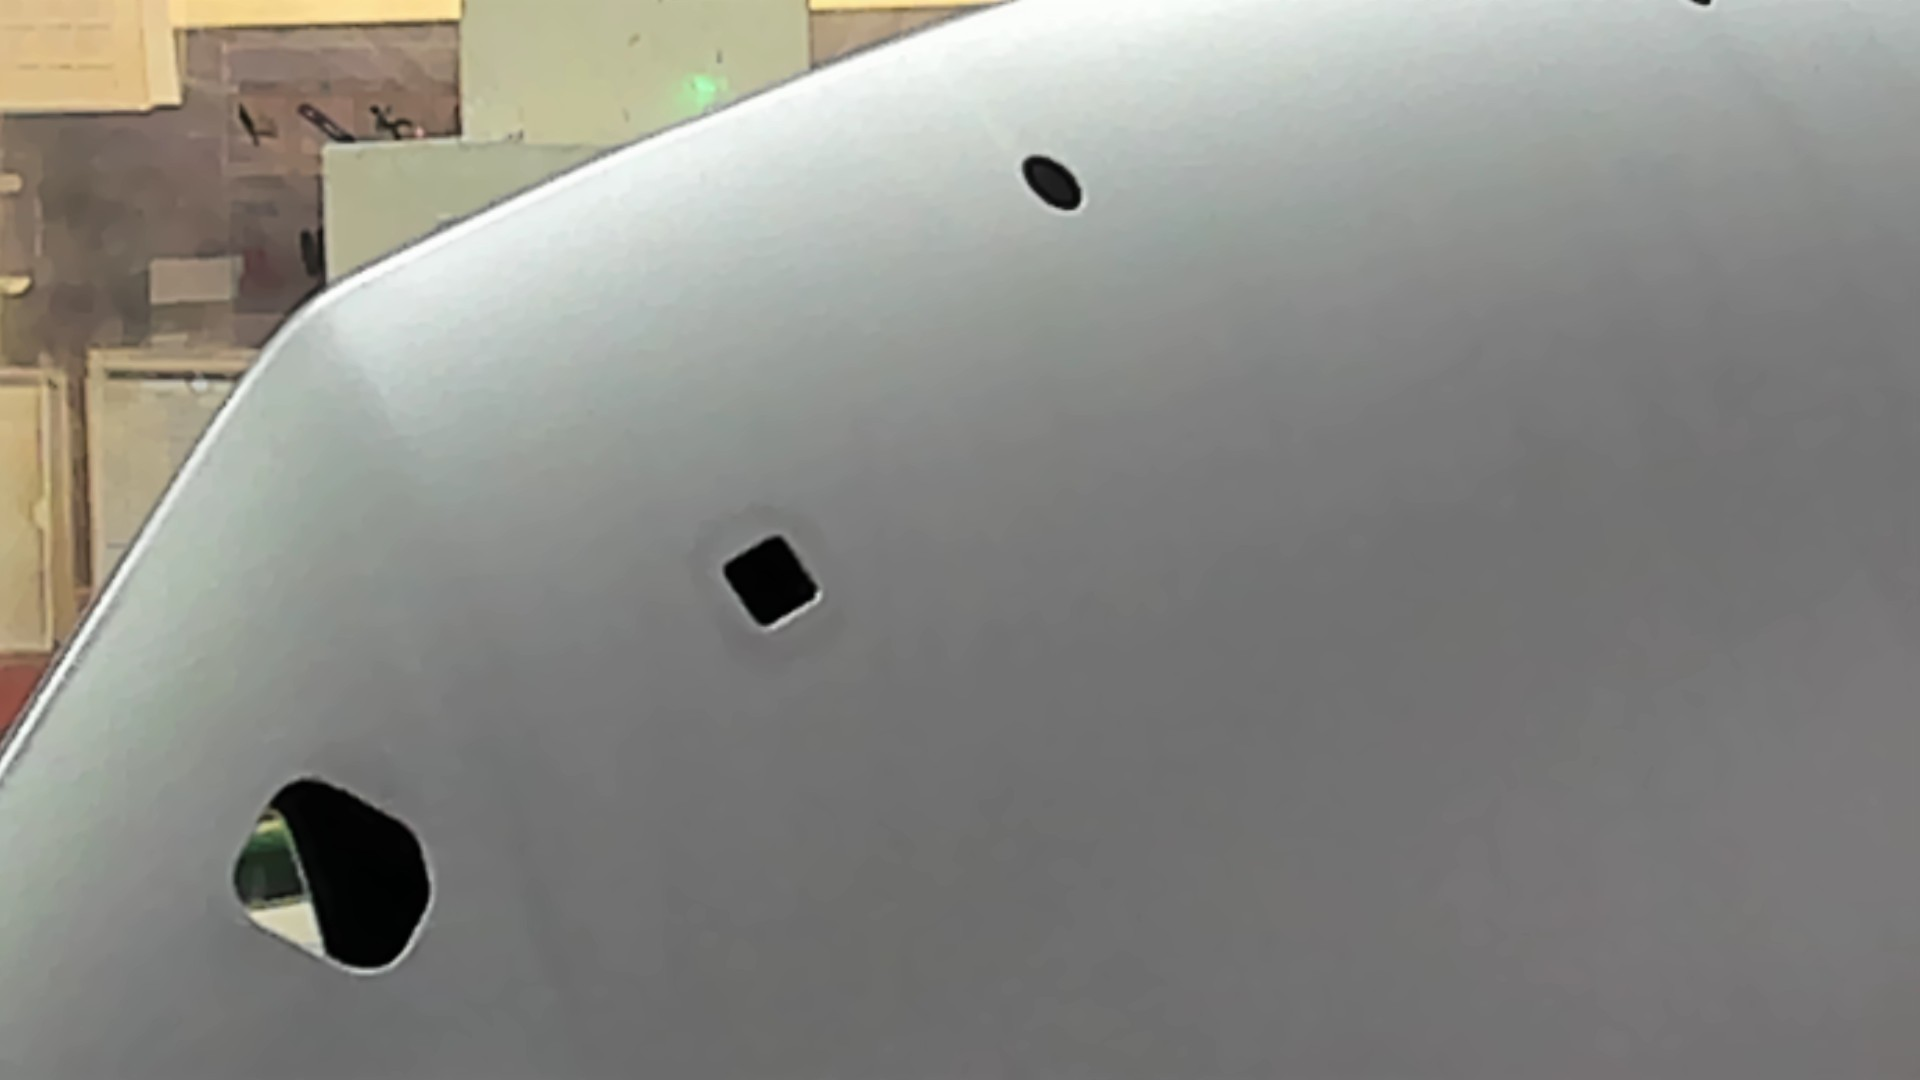chico: (1006, 142, 1112, 232)
grande: (204, 758, 448, 992)
mediano: (698, 509, 848, 646)
